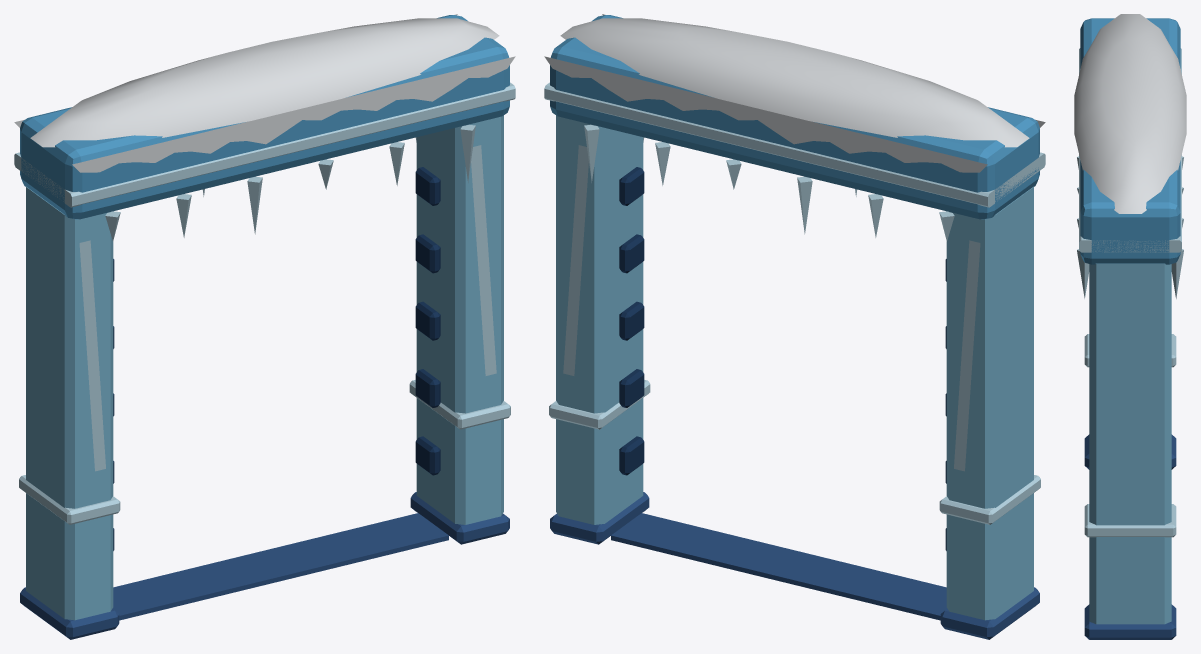
File: ice-gateframe.glb
The picture shows the model from 3 angles, left to right: view 1: azimuth 30°, elevation 25°; view 2: azimuth 150°, elevation 25°; view 3: azimuth 270°, elevation 25°; orthographic projection. The views are drawn at different scales.
Parts seen in each view (by area): view 1: ice-gateframe; view 2: ice-gateframe; view 3: ice-gateframe.
Part boxes in pixels (bbox=[...]): ice-gateframe: bbox=[14, 14, 515, 639]; ice-gateframe: bbox=[544, 14, 1045, 639]; ice-gateframe: bbox=[1074, 14, 1186, 639].
Bounding box in the file's own units: 2.06 × 2.22 × 0.4904.
